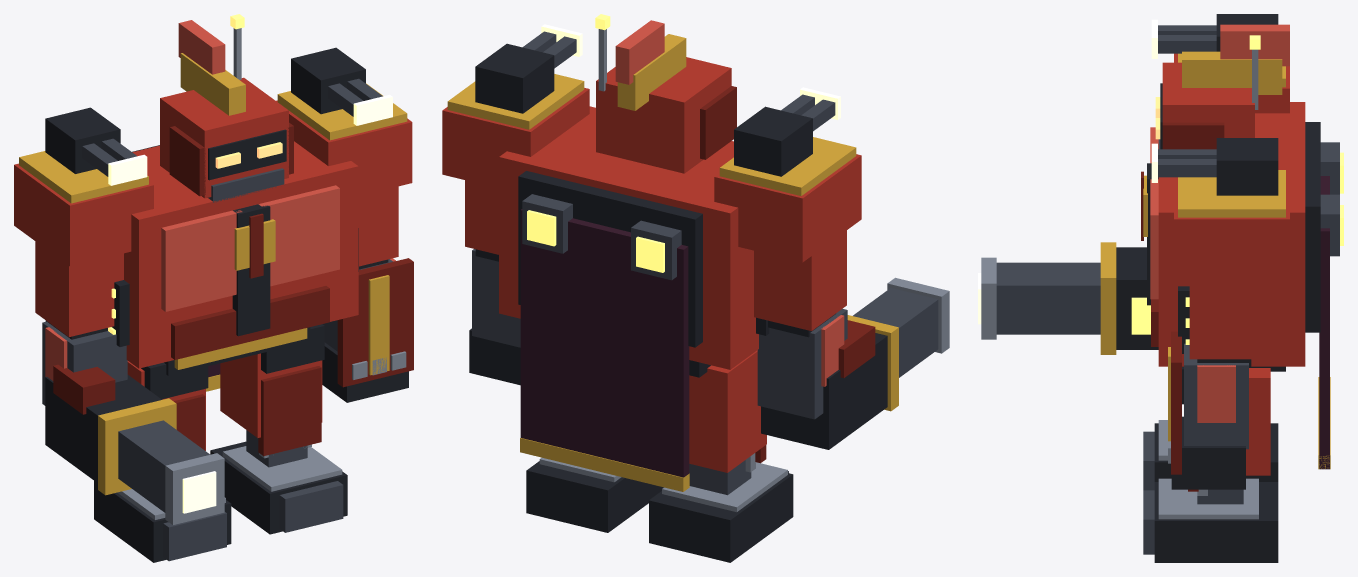
Rendered from boss-commander.glb.
The picture shows the model from 3 angles, left to right: view 1: azimuth 30°, elevation 25°; view 2: azimuth 150°, elevation 25°; view 3: azimuth 270°, elevation 25°; orthographic projection. The views are drawn at different scales.
Parts seen in each view (by area): view 1: body, body_pauldron_r, body_chest_r, head, right_arm, body_chest_l, left_hand_plate, body_pauldron_l, body_lower_plate, left_leg_shield, weapon_cannon, weapon_barrel (+40 smaller); view 2: body_cape, body, head, body_pauldron_r, right_foot, body_back, right_leg, right_arm, body_pauldron_l, weapon_cannon, left_foot, right_arm_fore (+22 smaller); view 3: body, body_pauldron_l, weapon_barrel, left_foot, left_arm, head, body_turret_l, body_pauldron_l_trim, left_arm_fore, body_back, head_crest, left_hand (+26 smaller).
Part boxes in pixels (x1=…): body: x1=124, y1=141, x2=358, y2=368; body_pauldron_r: x1=14, y1=163, x2=153, y2=266; body_chest_r: x1=161, y1=210, x2=242, y2=311; head: x1=160, y1=77, x2=288, y2=198; right_arm: x1=35, y1=241, x2=123, y2=337; body_chest_l: x1=258, y1=185, x2=339, y2=286; left_hand_plate: x1=337, y1=258, x2=413, y2=387; body_pauldron_l: x1=276, y1=100, x2=412, y2=195; body_lower_plate: x1=171, y1=286, x2=329, y2=359; left_leg_shield: x1=258, y1=366, x2=321, y2=456; weapon_cannon: x1=45, y1=375, x2=161, y2=482; weapon_barrel: x1=118, y1=420, x2=209, y2=512; body_cape: x1=520, y1=209, x2=689, y2=477; body: x1=499, y1=106, x2=758, y2=369; head: x1=596, y1=57, x2=731, y2=173; body_pauldron_r: x1=714, y1=154, x2=861, y2=262; right_foot: x1=649, y1=473, x2=793, y2=562; body_back: x1=518, y1=171, x2=702, y2=347; right_leg: x1=689, y1=350, x2=766, y2=472; right_arm: x1=754, y1=230, x2=846, y2=330; body_pauldron_l: x1=442, y1=88, x2=589, y2=188; weapon_cannon: x1=761, y1=333, x2=887, y2=449; left_foot: x1=526, y1=461, x2=663, y2=532; right_arm_fore: x1=757, y1=308, x2=847, y2=419; body: x1=1158, y1=102, x2=1305, y2=366; body_pauldron_l: x1=1174, y1=177, x2=1289, y2=282; weapon_barrel: x1=996, y1=262, x2=1100, y2=334; left_foot: x1=1154, y1=482, x2=1278, y2=562; left_arm: x1=1189, y1=282, x2=1258, y2=359; head: x1=1162, y1=62, x2=1254, y2=137; body_turret_l: x1=1216, y1=138, x2=1278, y2=195; body_pauldron_l_trim: x1=1178, y1=170, x2=1285, y2=217; left_arm_fore: x1=1184, y1=343, x2=1248, y2=449; body_back: x1=1305, y1=122, x2=1320, y2=332; head_crest: x1=1182, y1=51, x2=1282, y2=94; left_hand: x1=1171, y1=416, x2=1245, y2=489.
Bounding box in the file's own units: 5.3 × 7.07 × 4.74.
